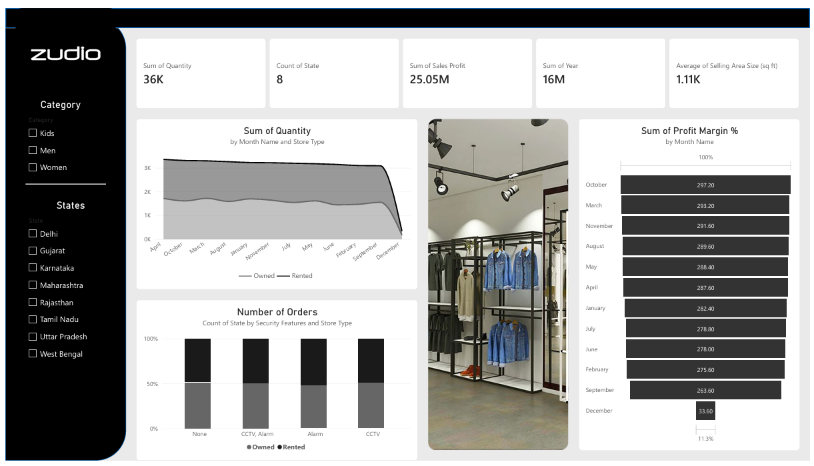

Layout of this report page (visuals, bound fields, positions):
{"tool":"powerbi","page":{"name":"3","canvas":[1920,1080],"ordinal":2},"visuals":[{"type":"shape","box":[0,24,288,1056],"z":0},{"type":"shape","box":[0,0,1920,48],"z":1000},{"type":"image","box":[24,0,240,216],"z":2000},{"type":"cardVisual","fields":{"Data":["Sum(Sales Data.Quantity)","Count(Sales Data.State)","Sum(Sales Data.Sales Profit)","Sum(Sales Data.Year)","Avg(Sales Data.Selling Area Size (sq ft))"]},"box":[312,72,1584,168],"z":3000},{"type":"funnel","fields":{"Y":["Sum(Sales Data.Profit Margin %)"],"Category":["Sales Data.Month Name"]},"box":[1368,264,528,792],"z":4000},{"type":"image","box":[1008,264,336,792],"z":5000},{"type":"stackedAreaChart","fields":{"Series":["Sales Data.Store Type"],"Y":["Sum(Sales Data.Quantity)"],"Category":["Sales Data.Month Name"]},"box":[312,264,672,408],"z":6000},{"type":"slicer","title":"Category","fields":{"Values":["Sales Data.Category"]},"box":[48,216,168,192],"z":7000},{"type":"shape","box":[48,384,192,72],"z":8000},{"type":"slicer","title":"States","fields":{"Values":["Sales Data.State"]},"box":[48,456,216,408],"z":9000},{"type":"hundredPercentStackedColumnChart","title":"Number of Orders","fields":{"Category":["Sales Data.Security Features"],"Series":["Sales Data.Store Type"],"Y":["CountNonNull(Sales Data.State)"]},"box":[312,696,672,384],"z":10000}]}

Visuals, with their boxes in screenshot pixels (x1, y1, x2, y2), scaled from the page's 1920x1080 canvas onto the 814x466 screenshot:
shape: (0, 10, 122, 465)
shape: (0, 0, 813, 21)
image: (10, 0, 112, 93)
cardVisual - Sum(Sales Data.Quantity) x Count(Sales Data.State): (132, 31, 804, 104)
funnel - Sum(Sales Data.Profit Margin %) x Sales Data.Month Name: (580, 114, 804, 456)
image: (427, 114, 570, 456)
stackedAreaChart - Sales Data.Store Type x Sum(Sales Data.Quantity): (132, 114, 417, 290)
"Category" slicer: (20, 93, 92, 176)
shape: (20, 166, 102, 197)
"States" slicer: (20, 197, 112, 373)
"Number of Orders" hundredPercentStackedColumnChart: (132, 300, 417, 465)
